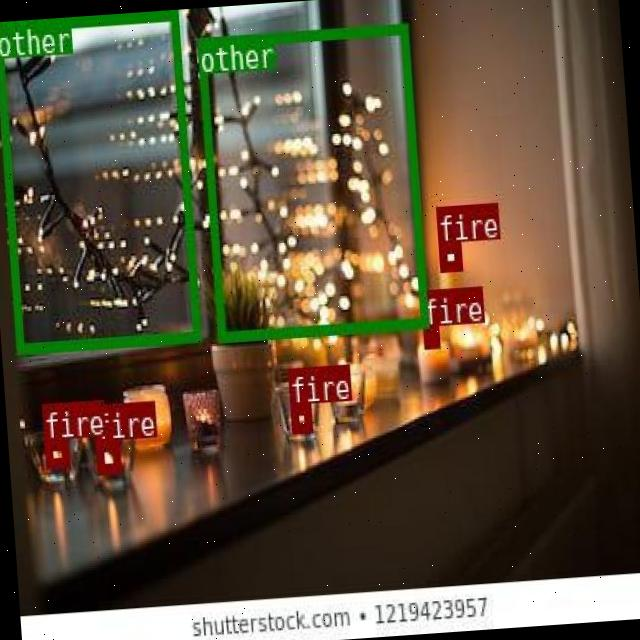fire: (94, 439, 118, 473), (42, 438, 68, 467), (437, 240, 461, 270), (288, 403, 310, 430), (422, 325, 438, 346)
